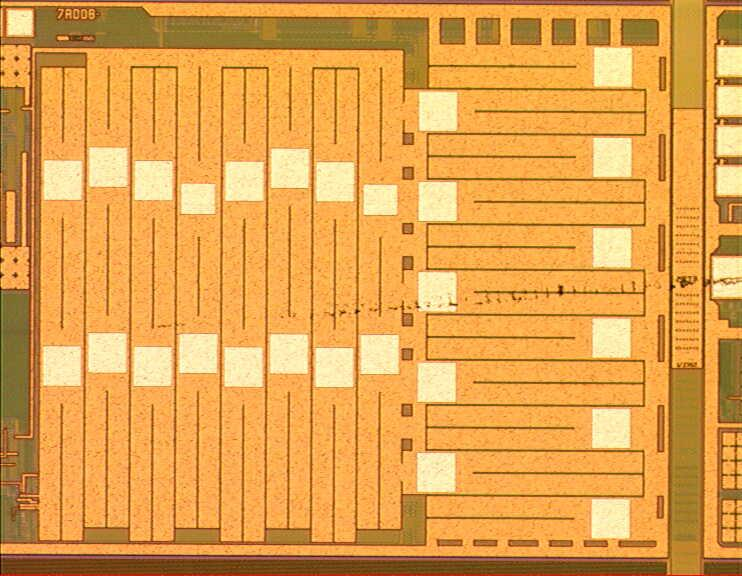SCRATCH: (111, 270, 742, 338)
